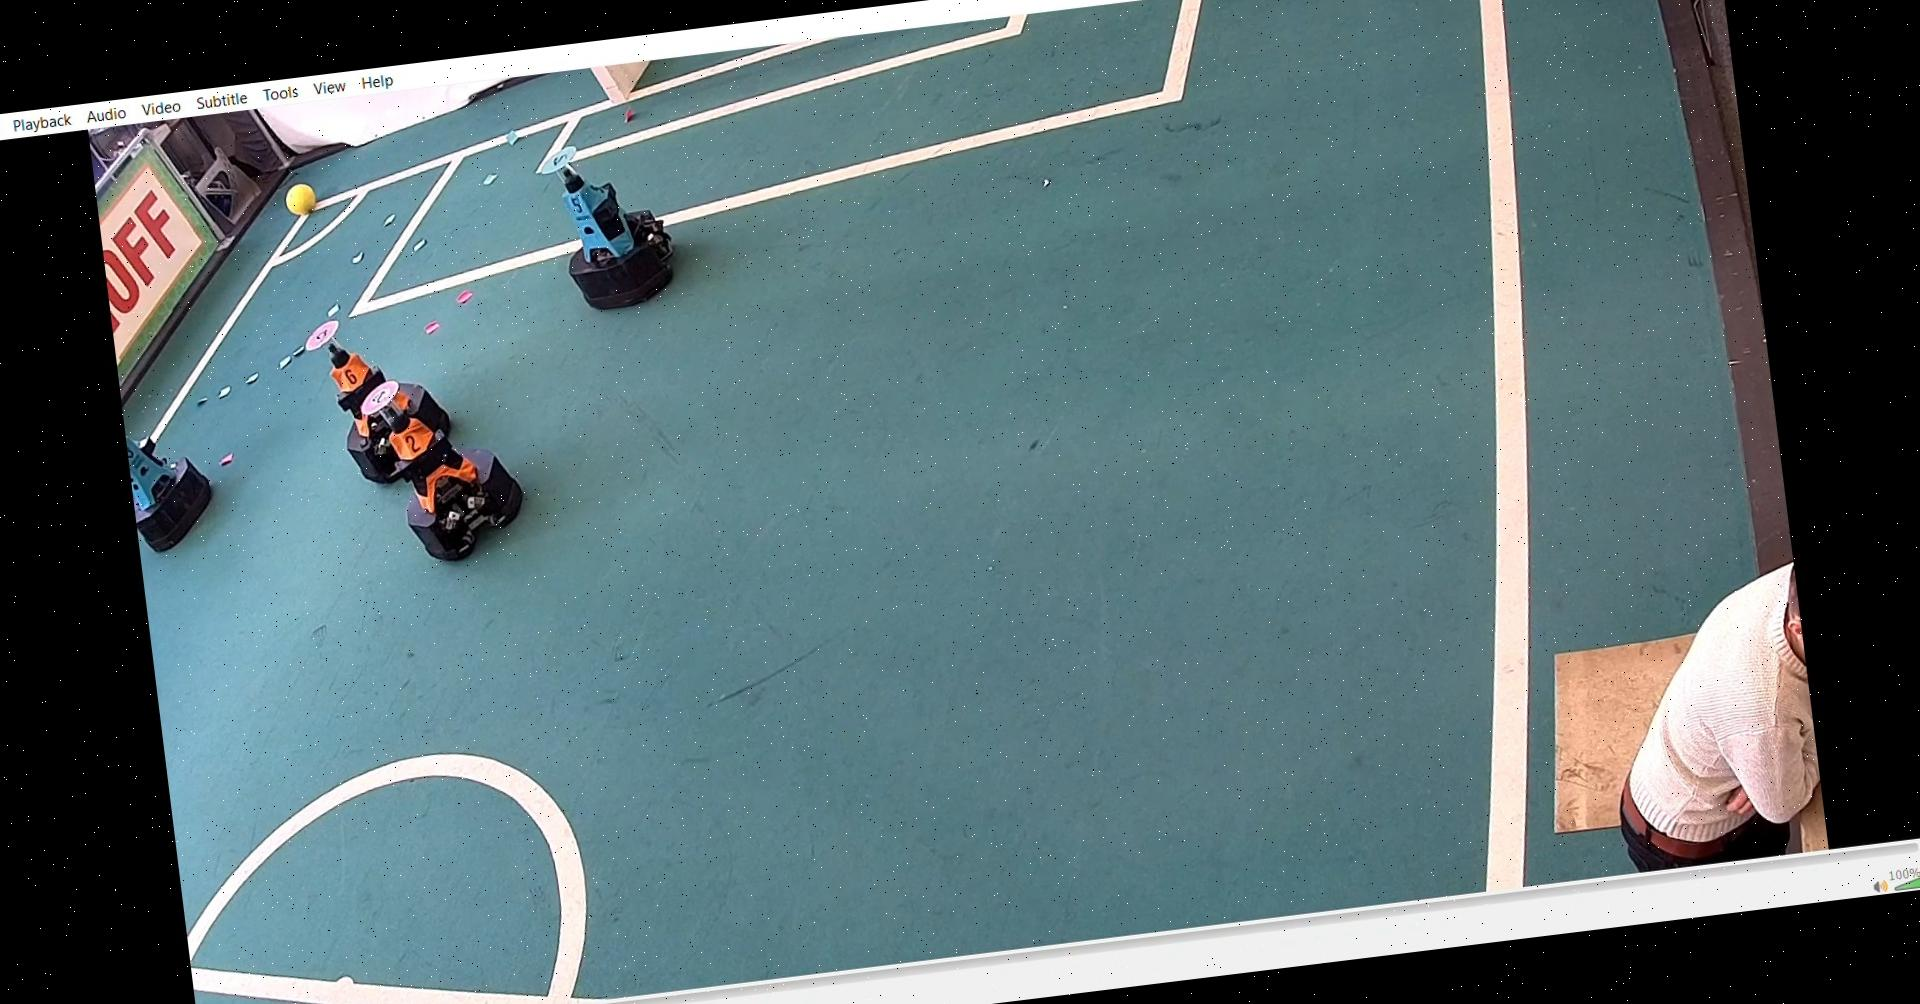Ball: (290, 179, 329, 216)
Team_Blue: (533, 123, 693, 320), (122, 404, 234, 552)
Team_Red: (353, 364, 535, 570), (296, 300, 456, 491)
